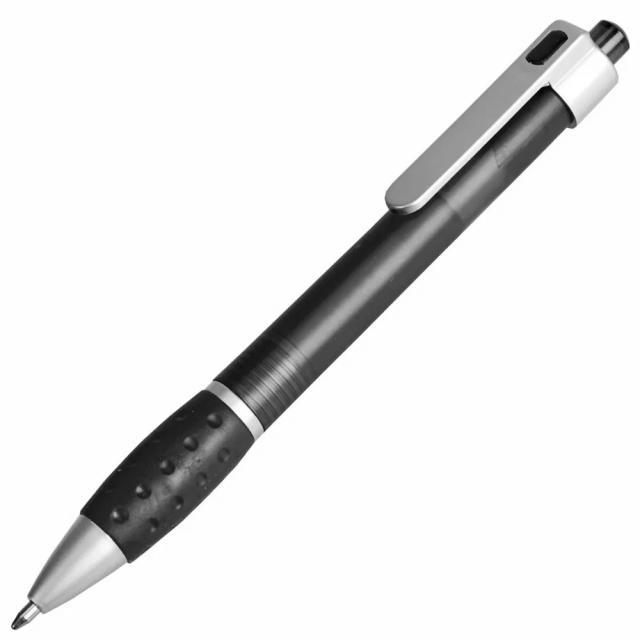pencil: (2, 18, 640, 635)
